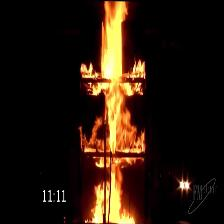fire: (78, 1, 147, 218)
